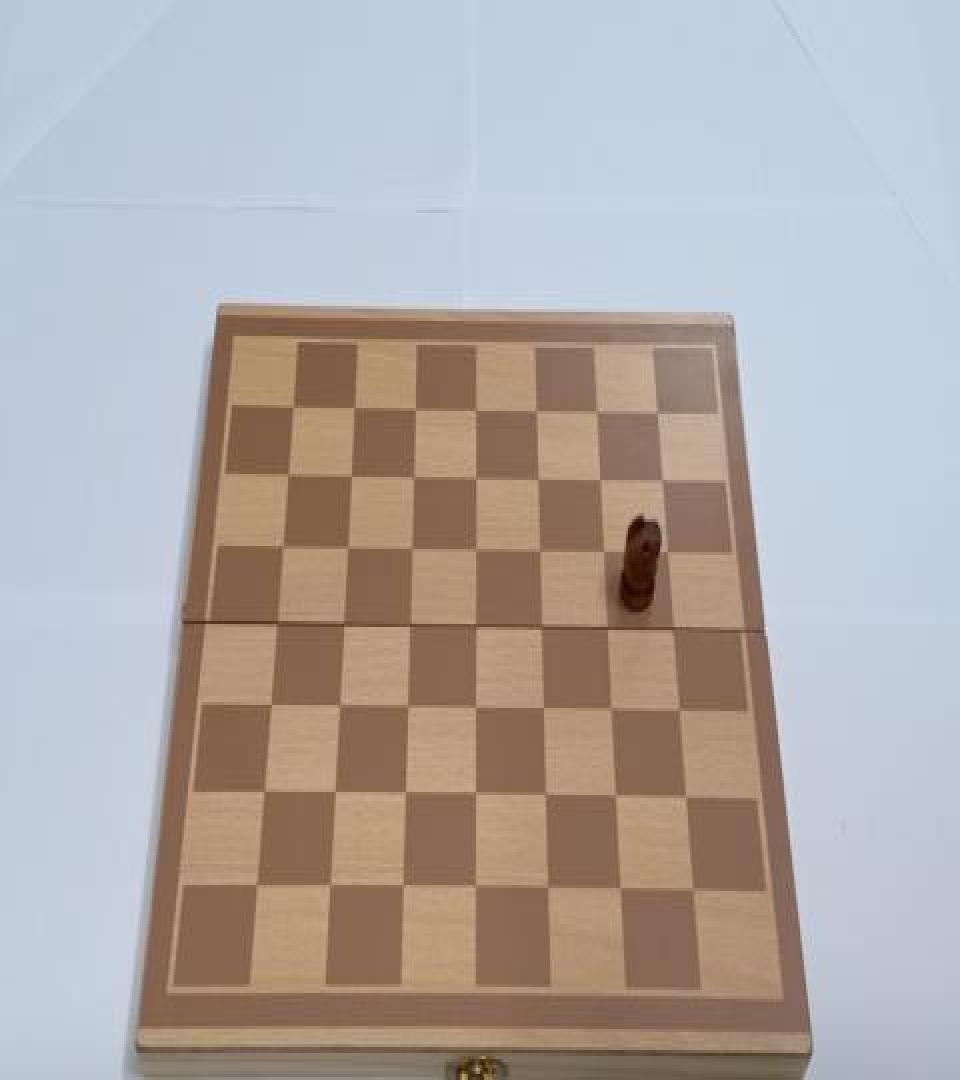xcorner: (282, 386, 302, 416), (276, 454, 296, 484), (270, 528, 290, 558), (264, 606, 284, 636), (251, 777, 271, 807), (343, 387, 363, 417), (339, 456, 359, 486), (331, 606, 351, 636), (327, 690, 347, 720), (318, 873, 338, 903), (404, 388, 424, 418), (402, 458, 422, 488), (396, 690, 416, 720), (392, 873, 412, 903), (465, 390, 485, 420), (465, 458, 485, 488), (465, 531, 485, 561), (465, 609, 485, 639), (466, 692, 486, 722), (466, 780, 486, 810), (466, 874, 486, 904), (526, 390, 546, 420), (528, 459, 548, 489), (530, 532, 550, 562), (532, 609, 552, 639), (534, 693, 554, 723), (537, 780, 557, 810), (540, 874, 560, 904), (587, 392, 607, 422), (590, 460, 610, 490), (594, 534, 614, 564), (603, 693, 623, 723), (608, 782, 628, 812), (613, 876, 633, 906), (647, 393, 667, 423), (653, 462, 673, 492), (659, 534, 679, 564), (665, 612, 685, 642), (671, 694, 691, 724), (679, 782, 699, 812), (686, 876, 706, 906), (258, 689, 278, 718), (243, 872, 263, 901), (336, 530, 356, 559), (323, 779, 343, 808), (401, 530, 421, 559), (399, 608, 419, 637), (394, 779, 414, 808), (599, 611, 619, 640)
